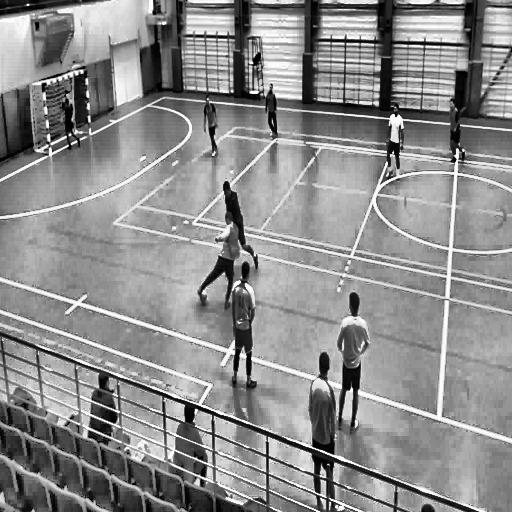ball: (198, 288, 209, 309)
player: (308, 346, 346, 512), (337, 288, 370, 438), (197, 212, 240, 309), (228, 261, 258, 390), (168, 393, 210, 484), (222, 180, 260, 270), (86, 370, 126, 446), (384, 100, 405, 184), (59, 84, 81, 155), (448, 94, 466, 166), (202, 93, 218, 158), (262, 82, 280, 139)
